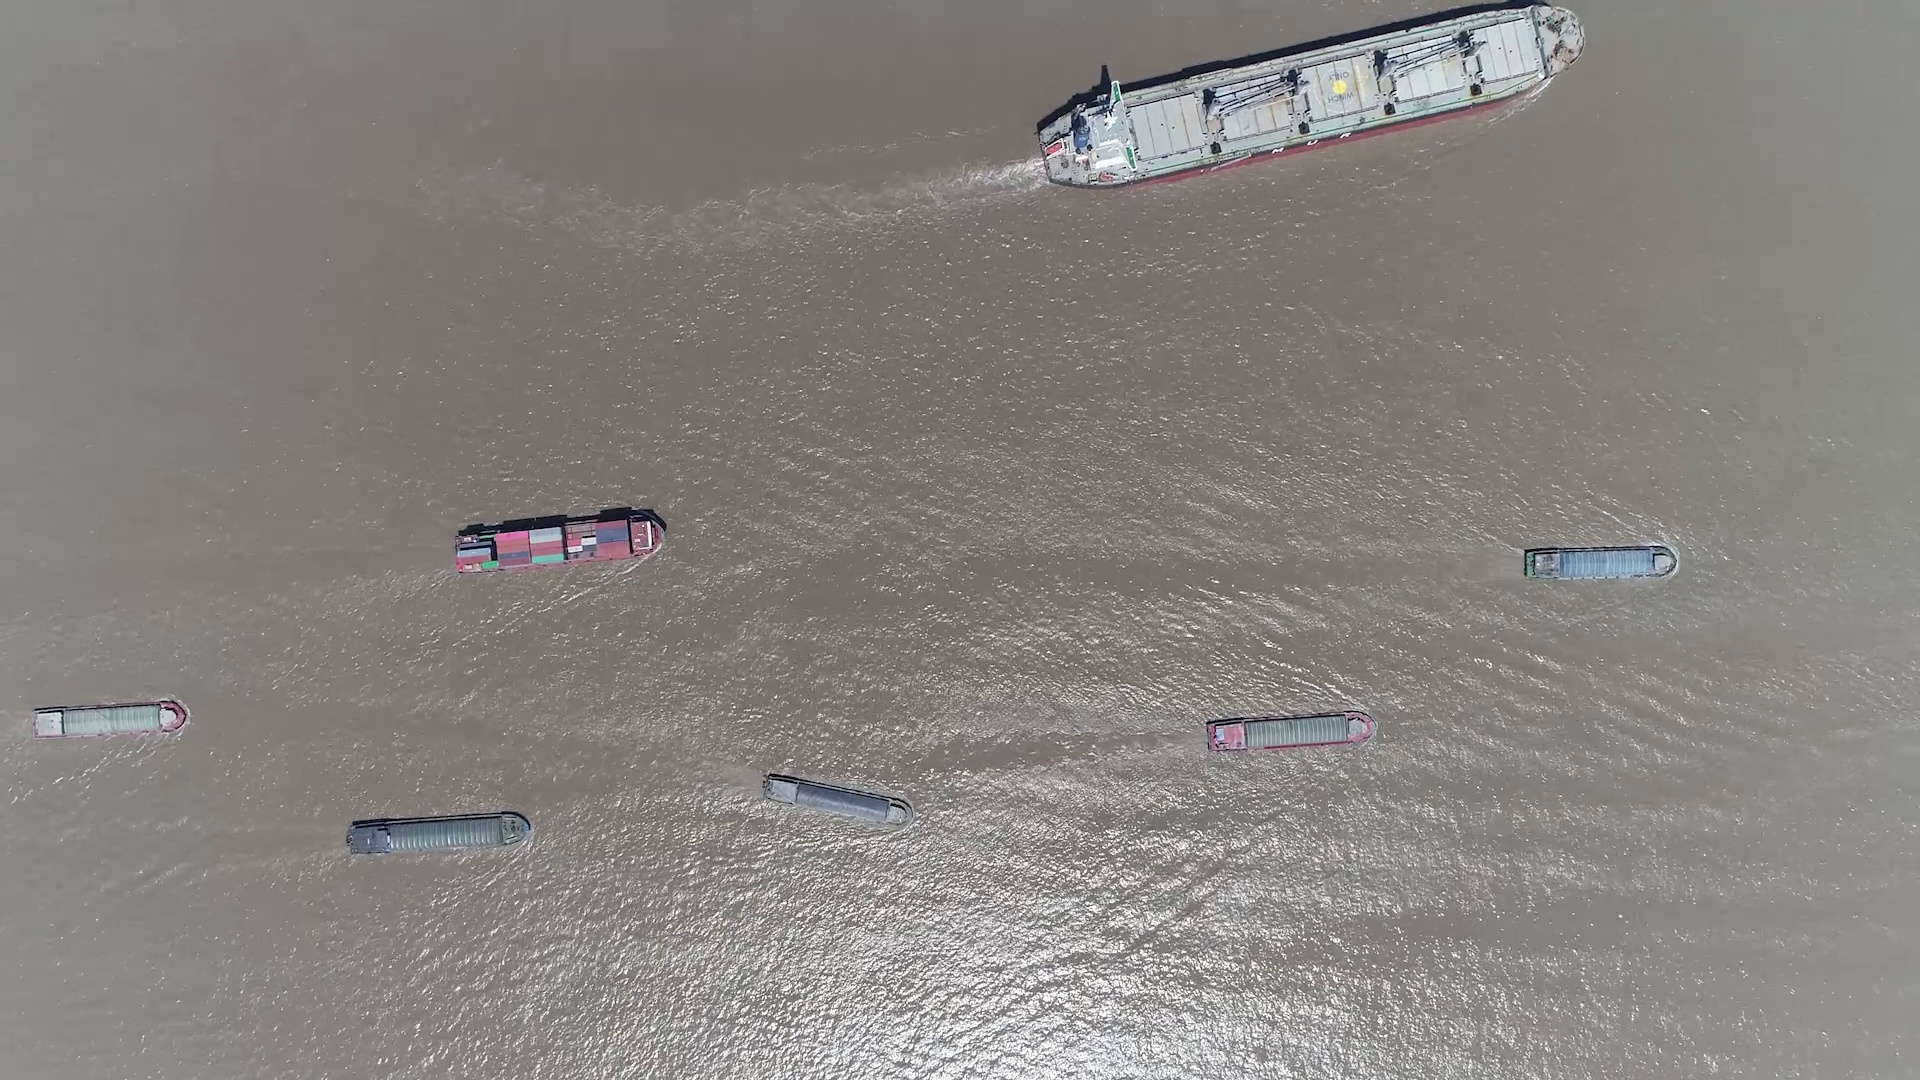ship: (1038, 7, 1578, 187), (454, 512, 665, 575), (347, 810, 533, 856), (760, 774, 910, 827), (1207, 712, 1377, 753), (30, 702, 186, 740), (1522, 545, 1676, 582)
